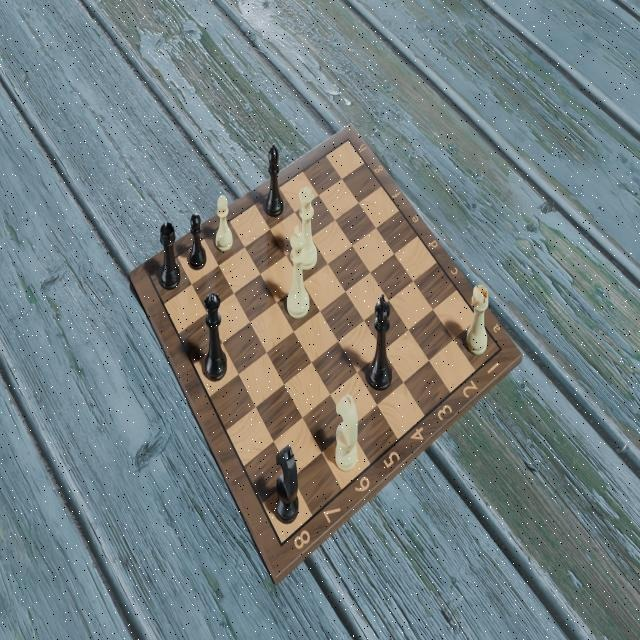black-bishop: (263, 132, 285, 228)
black-king: (363, 296, 398, 396)
black-knight: (270, 447, 302, 525)
black-pawn: (184, 204, 209, 276)
black-queen: (199, 291, 231, 390)
black-rook: (156, 216, 184, 295)
white-king: (284, 225, 311, 323)
white-knight: (331, 390, 361, 475)
white-pawn: (211, 193, 237, 252)
white-queen: (296, 184, 320, 272)
white-rook: (462, 278, 494, 359)
